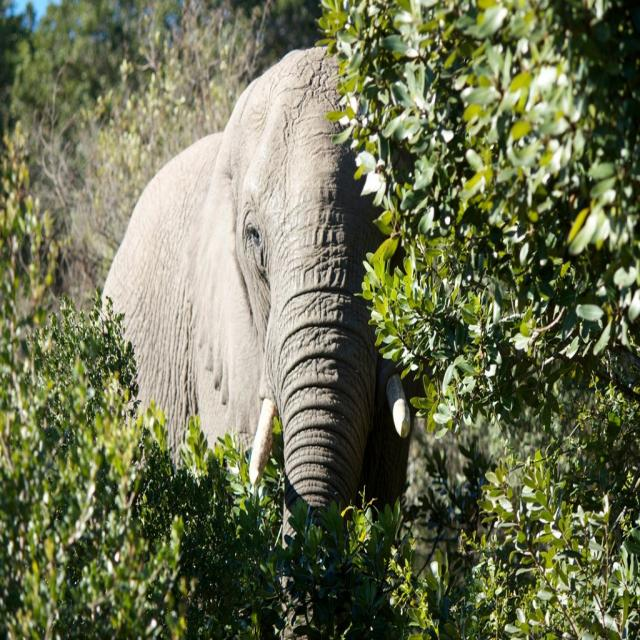elephant: (108, 51, 408, 546)
